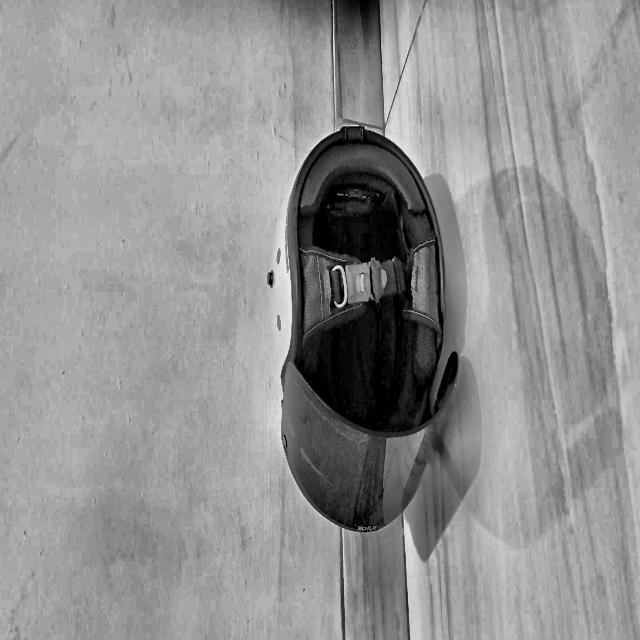Helmet: (29, 489, 306, 640)
